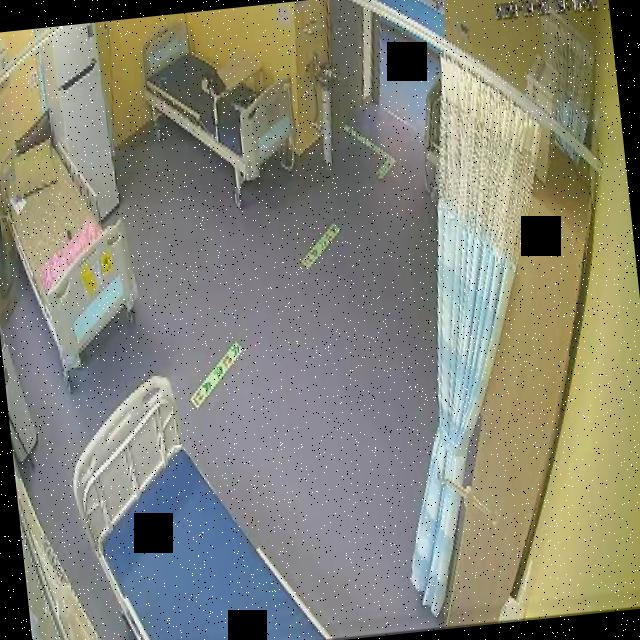bed: (62, 360, 331, 640), (0, 115, 144, 357), (135, 8, 302, 192)
